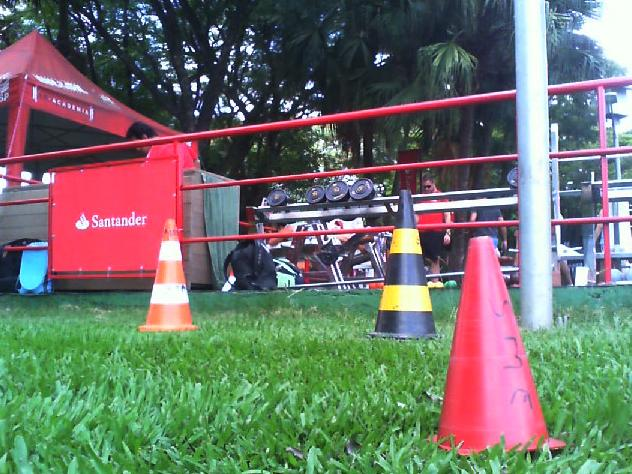0 cone: (428, 237, 564, 456), (369, 189, 440, 340), (137, 219, 197, 332)
